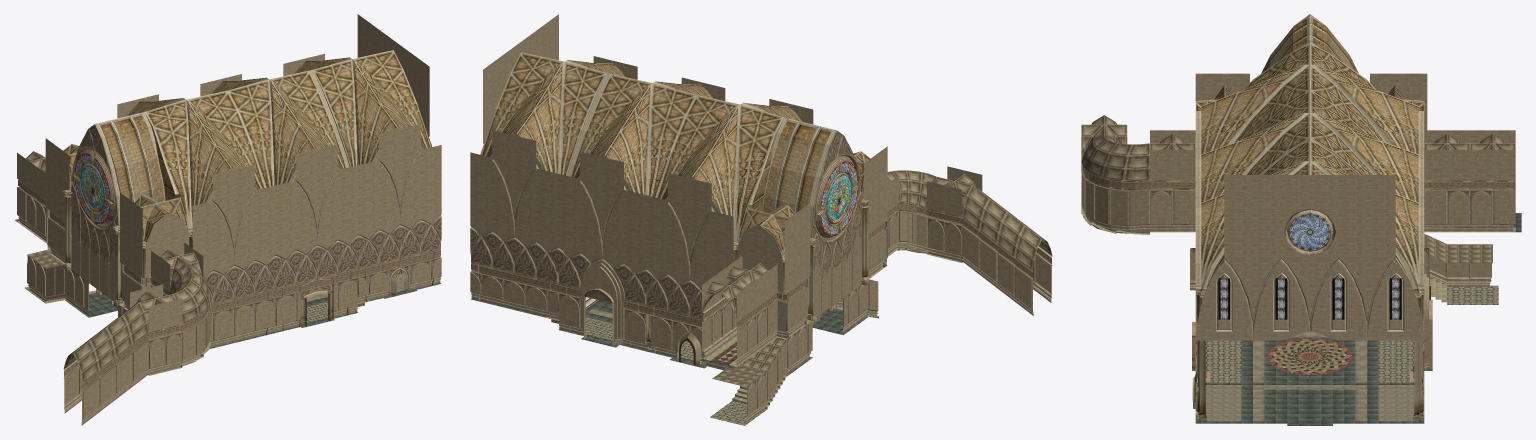
Rendered from hogwarts_grand_hall.glb.
The picture shows the model from 3 angles, left to right: view 1: azimuth 30°, elevation 25°; view 2: azimuth 150°, elevation 25°; view 3: azimuth 270°, elevation 25°; orthographic projection. The views are drawn at different scales.
Parts seen in each view (by area): view 1: Mesh_0131_Tex_0031_1.dds_0, Mesh_0120_Tex_0023_1.dds_0, Mesh_0124_Tex_0026_1.dds_0, Mesh_0185_Tex_0031_1.dds_0, Mesh_0215_Tex_0031_1.dds_0, Mesh_0222_Tex_0061_1.dds_0, Mesh_0123_Tex_0025_1.dds_0, Mesh_0212_Tex_0030_0.dds_0, Mesh_0384_Tex_0092_1.dds_0, Mesh_0356_Tex_0031_1.dds_0, Mesh_0368_Tex_0092_1.dds_0, Mesh_0221_Tex_0062_1.dds_0 (+25 smaller); view 2: Mesh_0131_Tex_0031_1.dds_0, Mesh_0120_Tex_0023_1.dds_0, Mesh_0124_Tex_0026_1.dds_0, Mesh_0185_Tex_0031_1.dds_0, Mesh_0242_Tex_0031_1.dds_0, Mesh_0123_Tex_0025_1.dds_0, Mesh_0241_Tex_0061_1.dds_0, Mesh_0350_Tex_0031_1.dds_0, Mesh_0384_Tex_0092_1.dds_0, Mesh_0240_Tex_0030_0.dds_0, Mesh_0128_Tex_0029_1.dds_0, Mesh_0239_Tex_0062_1.dds_0 (+27 smaller); view 3: Mesh_0131_Tex_0031_1.dds_0, Mesh_0120_Tex_0023_1.dds_0, Mesh_0124_Tex_0026_1.dds_0, Mesh_0101_Tex_0005_1.dds_0, Mesh_0123_Tex_0025_1.dds_0, Mesh_0343_Tex_0031_1.dds_0, Mesh_0103_Tex_0007_1.dds_0, Mesh_0356_Tex_0031_1.dds_0, Mesh_0368_Tex_0092_1.dds_0, Mesh_0104_Tex_0008_1.dds_0, Mesh_0122_Tex_0024_1.dds_0, Mesh_0102_Tex_0006_1.dds_0 (+27 smaller).
Part boxes in pixels (<box>): Mesh_0131_Tex_0031_1.dds_0: <box>117,14,441,272</box>; Mesh_0120_Tex_0023_1.dds_0: <box>145,50,430,228</box>; Mesh_0124_Tex_0026_1.dds_0: <box>140,57,425,204</box>; Mesh_0185_Tex_0031_1.dds_0: <box>45,138,142,305</box>; Mesh_0215_Tex_0031_1.dds_0: <box>203,214,441,341</box>; Mesh_0222_Tex_0061_1.dds_0: <box>210,227,440,305</box>; Mesh_0123_Tex_0025_1.dds_0: <box>127,60,424,203</box>; Mesh_0212_Tex_0030_0.dds_0: <box>204,215,441,341</box>; Mesh_0384_Tex_0092_1.dds_0: <box>63,302,148,382</box>; Mesh_0356_Tex_0031_1.dds_0: <box>149,243,210,368</box>; Mesh_0368_Tex_0092_1.dds_0: <box>136,249,210,330</box>; Mesh_0221_Tex_0062_1.dds_0: <box>205,216,441,294</box>; Mesh_0131_Tex_0031_1.dds_0: <box>470,14,813,282</box>; Mesh_0120_Tex_0023_1.dds_0: <box>481,52,784,241</box>; Mesh_0124_Tex_0026_1.dds_0: <box>487,60,789,215</box>; Mesh_0185_Tex_0031_1.dds_0: <box>785,146,887,330</box>; Mesh_0242_Tex_0031_1.dds_0: <box>470,226,704,358</box>; Mesh_0123_Tex_0025_1.dds_0: <box>488,63,802,214</box>; Mesh_0241_Tex_0061_1.dds_0: <box>471,239,703,319</box>; Mesh_0350_Tex_0031_1.dds_0: <box>887,175,961,255</box>; Mesh_0384_Tex_0092_1.dds_0: <box>962,185,1052,270</box>; Mesh_0240_Tex_0030_0.dds_0: <box>470,226,701,350</box>; Mesh_0128_Tex_0029_1.dds_0: <box>771,118,832,176</box>; Mesh_0239_Tex_0062_1.dds_0: <box>470,228,699,305</box>; Mesh_0131_Tex_0031_1.dds_0: <box>1195,175,1424,340</box>; Mesh_0120_Tex_0023_1.dds_0: <box>1201,43,1418,287</box>; Mesh_0124_Tex_0026_1.dds_0: <box>1201,65,1418,285</box>; Mesh_0101_Tex_0005_1.dds_0: <box>1192,337,1432,425</box>; Mesh_0123_Tex_0025_1.dds_0: <box>1201,92,1418,285</box>; Mesh_0343_Tex_0031_1.dds_0: <box>1424,149,1515,223</box>; Mesh_0103_Tex_0007_1.dds_0: <box>1205,331,1414,421</box>; Mesh_0356_Tex_0031_1.dds_0: <box>1082,149,1195,225</box>; Mesh_0368_Tex_0092_1.dds_0: <box>1081,115,1195,181</box>; Mesh_0104_Tex_0008_1.dds_0: <box>1205,340,1414,382</box>; Mesh_0122_Tex_0024_1.dds_0: <box>1195,14,1424,284</box>; Mesh_0102_Tex_0006_1.dds_0: <box>1267,338,1352,375</box>.
Bounding box in the file's own units: 12573 × 6858 × 9779.
76 materials, 76 textured.
